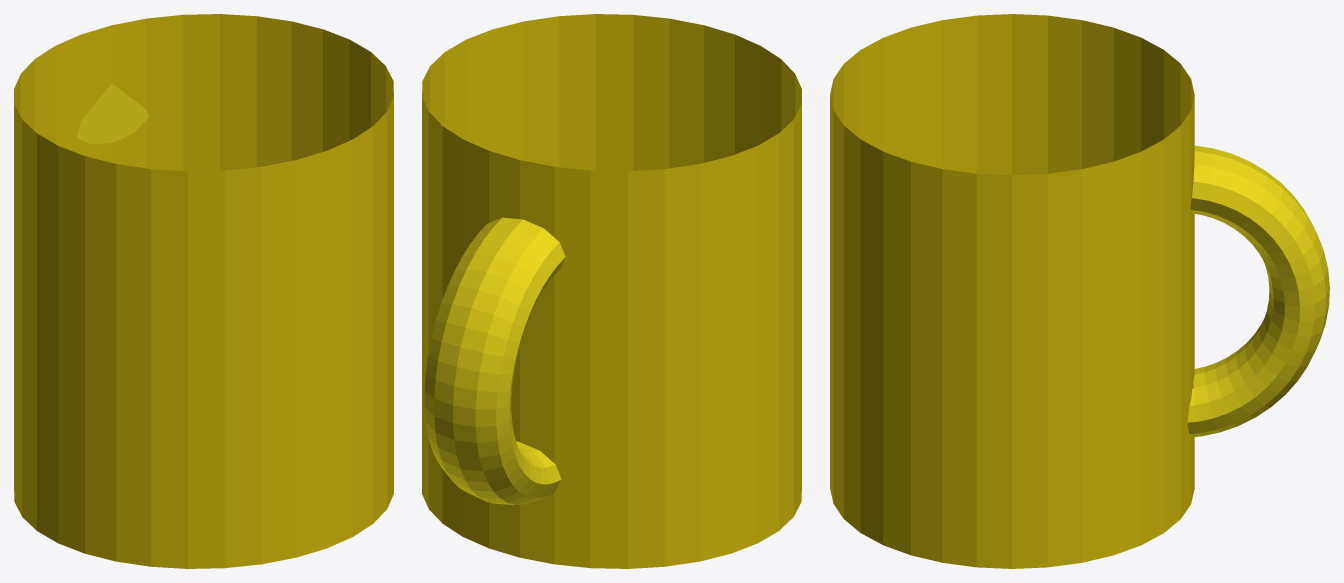
The model's file is YellowCup.fbx.
The picture shows the model from 3 angles, left to right: view 1: azimuth 30°, elevation 25°; view 2: azimuth 150°, elevation 25°; view 3: azimuth 270°, elevation 25°; orthographic projection.
Visible parts, largest first — view 1: Cylinder, Torus; view 2: Cylinder, Torus; view 3: Cylinder, Torus.
Boxes of the visible parts, box(x1,y1,x2,y2) form: Cylinder: box(14, 14, 393, 568); Torus: box(76, 84, 148, 144); Cylinder: box(422, 14, 801, 568); Torus: box(424, 217, 565, 504); Cylinder: box(830, 14, 1194, 568); Torus: box(1187, 145, 1329, 437).
Size of the model in its own units: 48.22 by 54.87 by 63.16.
